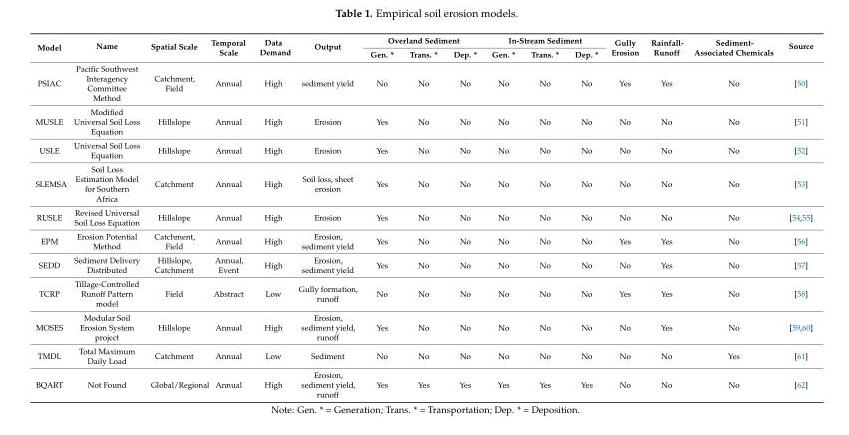table: (34, 35, 812, 398)
table column: (687, 35, 780, 398), (69, 35, 144, 398), (294, 35, 363, 398), (144, 35, 209, 398), (400, 35, 444, 398), (522, 35, 566, 398), (251, 35, 294, 398), (644, 35, 687, 398), (209, 35, 251, 398), (604, 35, 644, 398), (444, 35, 483, 398), (483, 35, 522, 398), (566, 35, 604, 398), (363, 35, 400, 398), (34, 35, 69, 398), (780, 35, 812, 398)
table column header: (34, 35, 812, 61)
table row: (34, 161, 812, 205), (34, 61, 812, 104), (34, 309, 812, 343), (34, 104, 812, 137), (34, 276, 812, 309), (34, 367, 812, 398), (34, 137, 812, 161), (34, 228, 812, 252), (34, 252, 812, 276), (34, 343, 812, 367), (34, 205, 812, 228), (34, 46, 812, 61), (34, 35, 812, 46)
table spanning cell: (687, 35, 780, 61), (69, 35, 144, 61), (294, 35, 363, 61), (144, 35, 209, 61), (483, 35, 604, 46), (363, 35, 483, 46), (251, 35, 294, 61), (644, 35, 687, 61), (209, 35, 251, 61), (604, 35, 644, 61), (34, 35, 69, 61), (780, 35, 812, 61)
